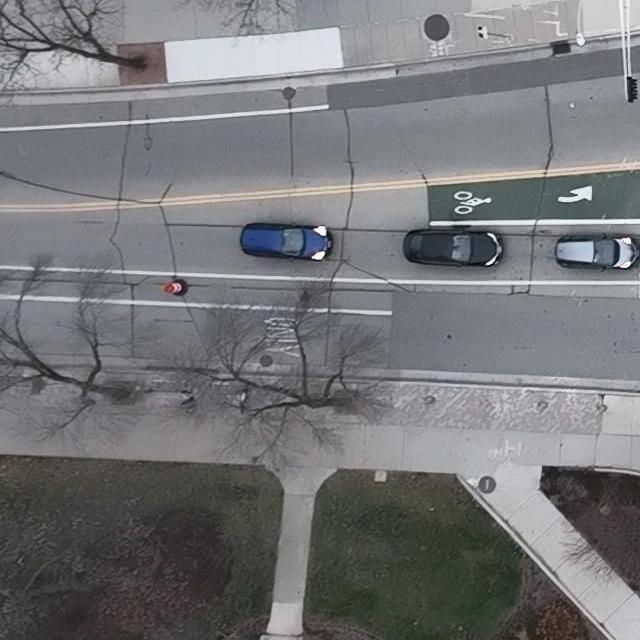car: (401, 225, 505, 269), (240, 220, 335, 263), (556, 231, 640, 274)
